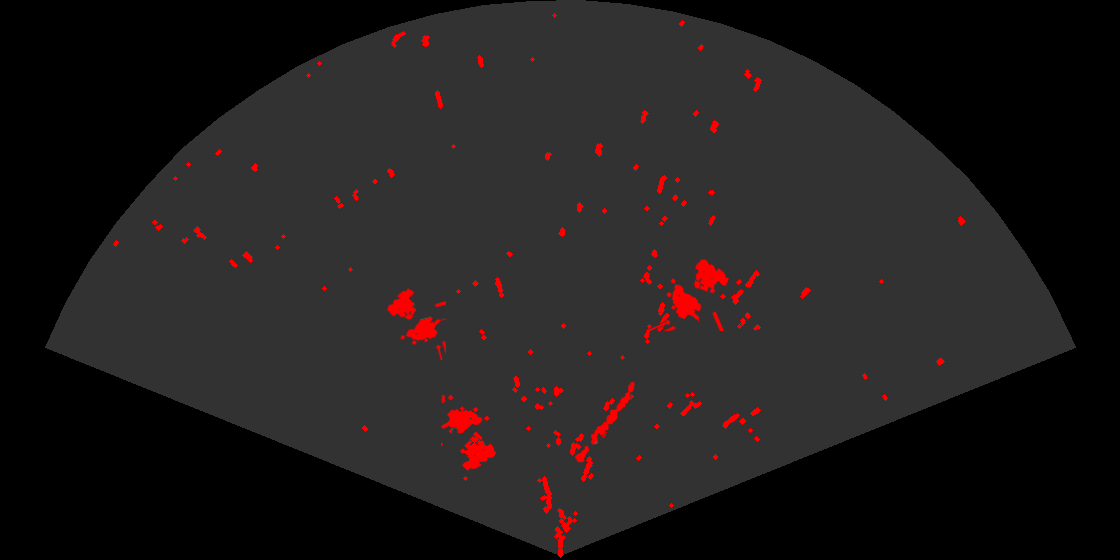cage: (645, 258, 730, 331), (441, 395, 498, 472), (386, 287, 446, 360)
chain: (573, 380, 636, 464)
